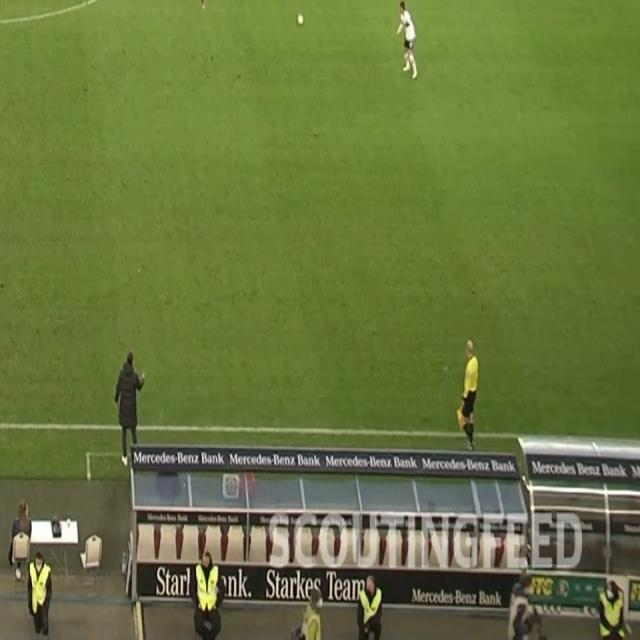ball: (296, 12, 304, 27)
